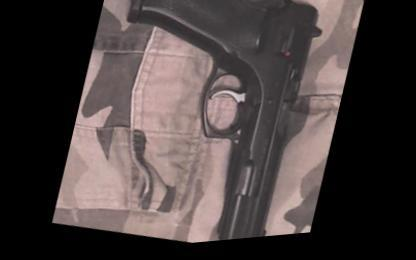pistol: (82, 0, 332, 251)
